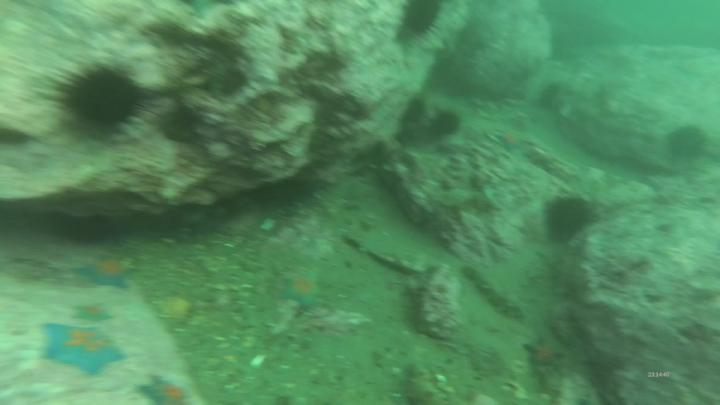echinus: (59, 67, 145, 133), (541, 192, 598, 245), (665, 123, 711, 166), (405, 4, 449, 41), (428, 105, 463, 140)
holothurian: (464, 263, 529, 324), (406, 362, 448, 405)
starfish: (40, 320, 128, 376), (275, 271, 331, 312), (77, 254, 139, 291), (138, 374, 195, 405), (523, 334, 567, 370), (70, 303, 117, 326), (492, 129, 528, 155)
